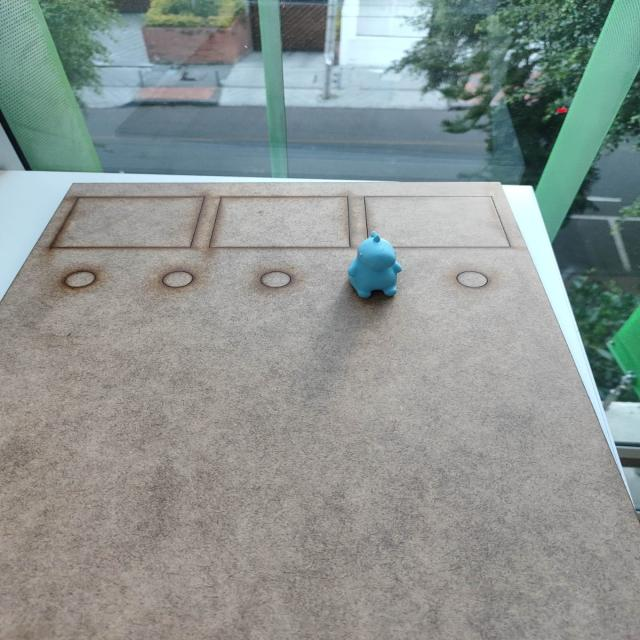DINO: (341, 227, 409, 303)
